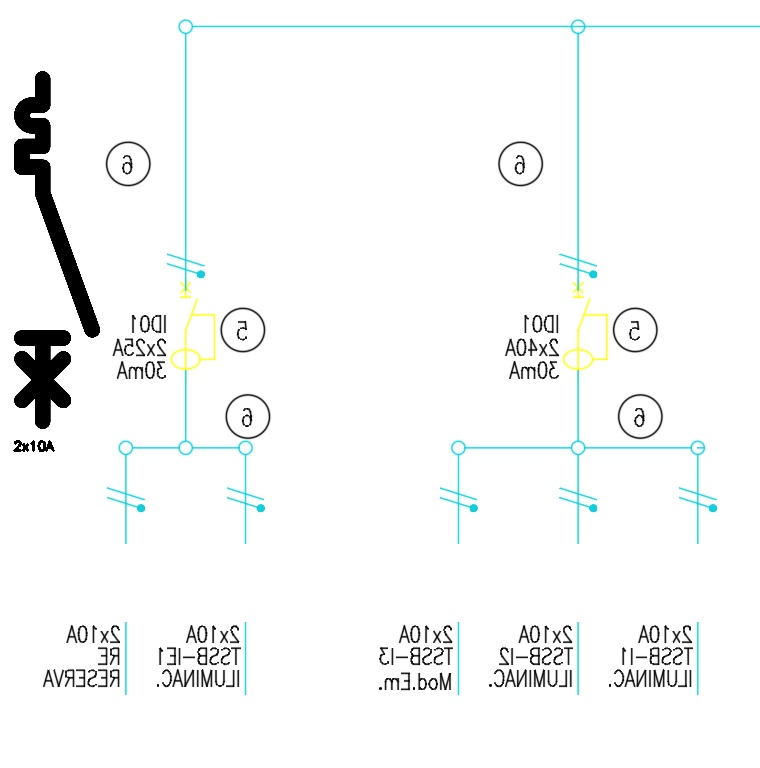interruptor_termomagnetico: (13, 70, 101, 430)
